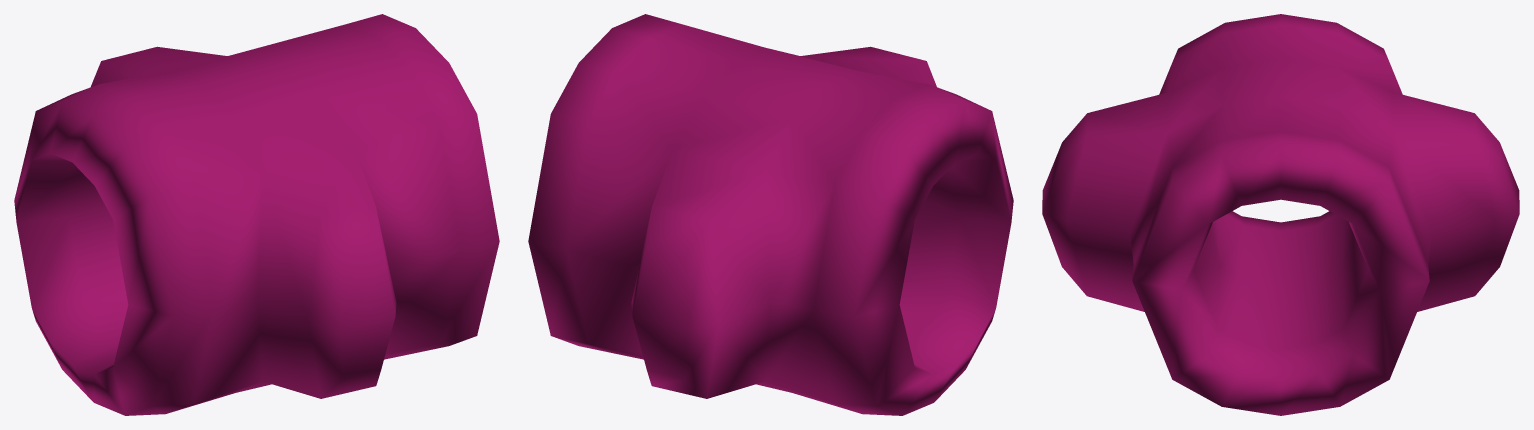
The model's file is Bones.fbx.
3 views of the same model, side by side, from view 1: azimuth 30°, elevation 25°; view 2: azimuth 150°, elevation 25°; view 3: azimuth 270°, elevation 25° (orthographic). The views are drawn at different scales.
Parts seen in each view (by area): view 1: Bones; view 2: Bones; view 3: Bones.
Part boxes in pixels (x1,y1,x2,y2): Bones: [14, 14, 499, 415]; Bones: [528, 14, 1013, 415]; Bones: [1042, 14, 1519, 415].
Bounding box in the file's own units: 9.58 × 7.67 × 12.31.
